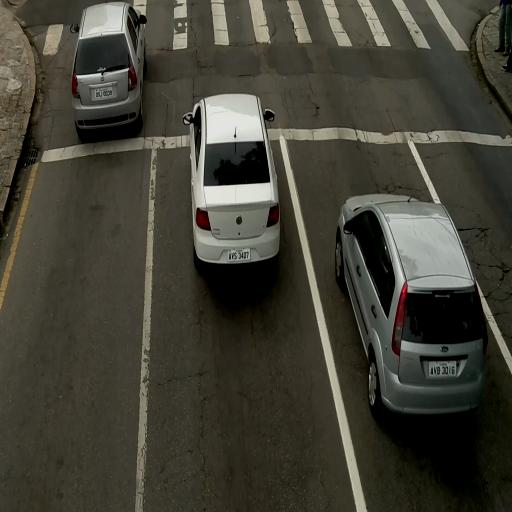car: (329, 182, 488, 430), (185, 87, 286, 280), (70, 1, 148, 135), (494, 4, 511, 73)
